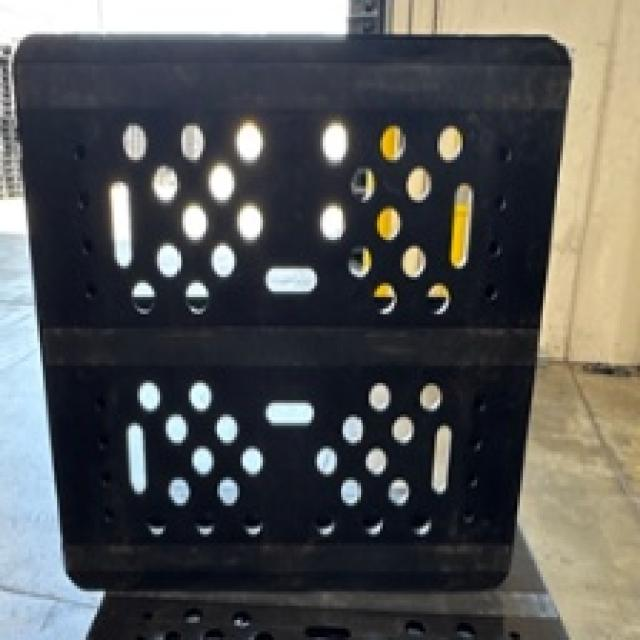igps: (8, 25, 580, 601)
